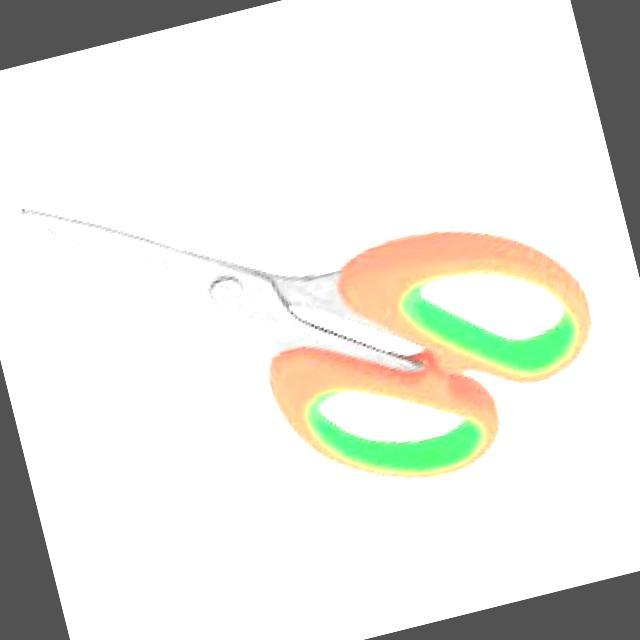Scissors: (0, 66, 638, 584)
